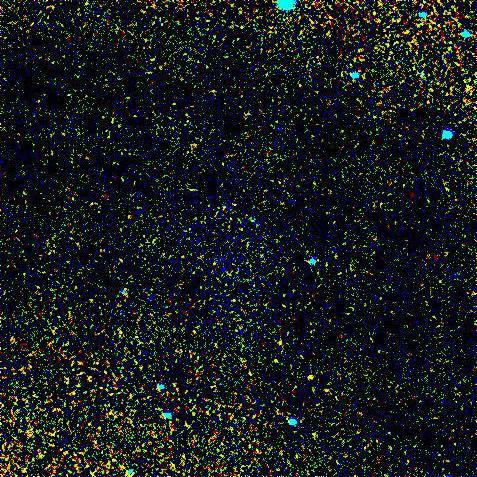star: (298, 355, 328, 385)
